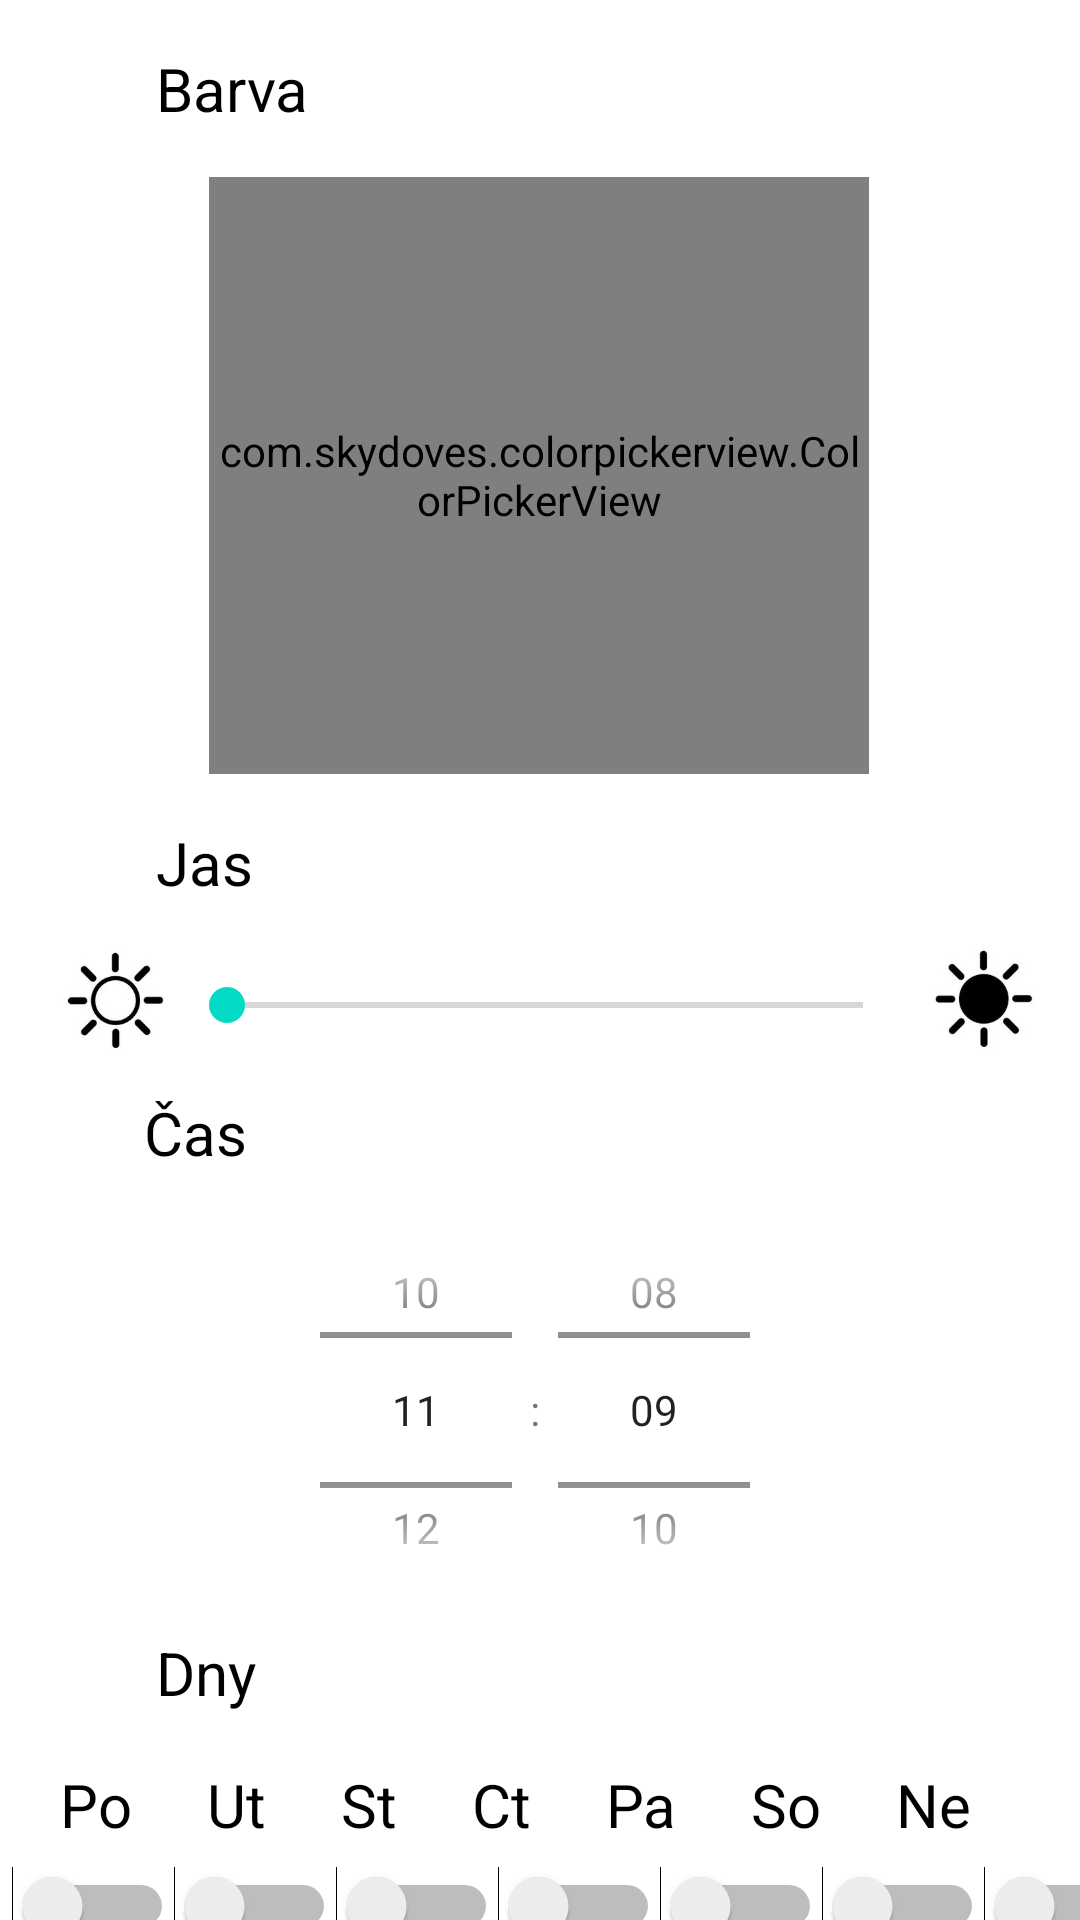

Point at icon controls on the screen. Image size 1080x1920, points as (x,y).
brightness: (983,998), (115,1000)
